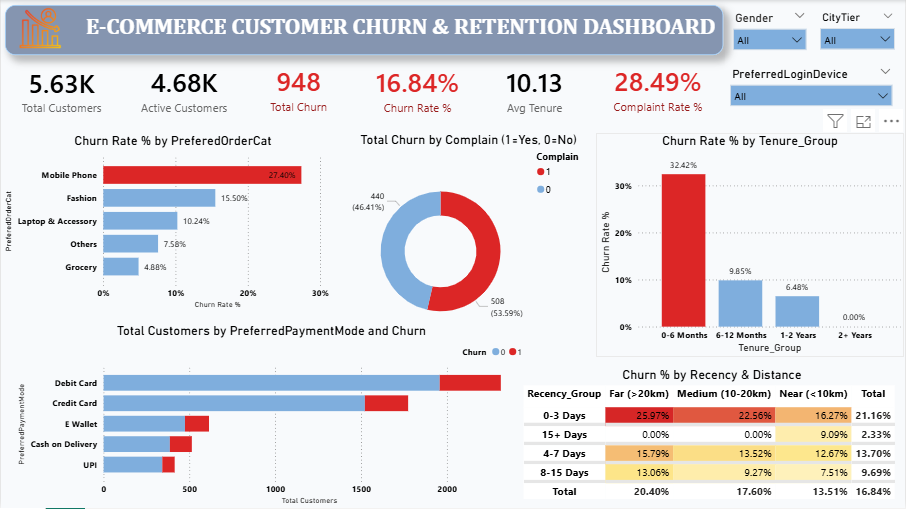

This screenshot's page, from the dashboard's own definition file:
{"tool":"powerbi","page":{"name":"Page 1","canvas":[1280,720],"ordinal":0},"visuals":[{"type":"textbox","box":[5,6.7,1018,70.6],"z":0},{"type":"cardVisual","fields":{"Data":["clean_ecommerce_churn.Avg Tenure"]},"box":[661.8,65.5,189.8,122.6],"z":1000},{"type":"cardVisual","fields":{"Data":["clean_ecommerce_churn.Churn Rate %"]},"box":[487.1,65.5,206.6,122.6],"z":2000},{"type":"cardVisual","fields":{"Data":["clean_ecommerce_churn.Active Customers"]},"box":[161.3,65.5,196.5,122.6],"z":3000},{"type":"cardVisual","fields":{"Data":["clean_ecommerce_churn.Total Churn"]},"box":[327.6,65.5,189.8,120.9],"z":4000},{"type":"cardVisual","fields":{"Data":["clean_ecommerce_churn.Total Customers"]},"box":[0,65.2,172.9,123.3],"z":5000},{"type":"barChart","fields":{"Y":["clean_ecommerce_churn.Churn Rate %"],"Category":["clean_ecommerce_churn.PreferedOrderCat"]},"box":[0,188.5,487.6,253.7],"z":6000},{"type":"clusteredColumnChart","fields":{"Category":["clean_ecommerce_churn.Tenure_Group"],"Y":["clean_ecommerce_churn.Churn Rate %"]},"box":[843.3,188.1,436.7,317.5],"z":7000},{"type":"donutChart","title":"Total Churn by Complain (1=Yes, 0=No)","fields":{"Category":["clean_ecommerce_churn.Complain"],"Y":["clean_ecommerce_churn.Total Churn"]},"box":[482.1,186.5,361.2,317.5],"z":8000},{"type":"barChart","fields":{"Category":["clean_ecommerce_churn.PreferredPaymentMode"],"Y":["clean_ecommerce_churn.Total Customers"],"Series":["clean_ecommerce_churn.Churn"]},"box":[18.4,457.8,729.9,262.2],"z":9000},{"type":"pivotTable","title":"Churn % by Recency & Distance","fields":{"Rows":["clean_ecommerce_churn.Recency_Group"],"Columns":["clean_ecommerce_churn.Distance_Group"],"Values":["clean_ecommerce_churn.Churn Rate %"]},"box":[735.7,520.7,544.3,194.9],"z":10000},{"type":"slicer","fields":{"Values":["clean_ecommerce_churn.Gender"]},"box":[1028,10.1,124.3,75.6],"z":11000},{"type":"slicer","fields":{"Values":["clean_ecommerce_churn.CityTier"]},"box":[1150.7,10.1,126,75.6],"z":12000},{"type":"slicer","fields":{"Values":["clean_ecommerce_churn.PreferredLoginDevice"]},"box":[1023,89,250.3,84],"z":13000},{"type":"image","box":[8.4,10.1,94.1,60.5],"z":14000},{"type":"cardVisual","fields":{"Data":["clean_ecommerce_churn.Complaint Rate %"]},"box":[829.8,65.5,204.9,120.9],"z":15000}]}

Visuals, with their boxes in screenshot pixels (x1, y1, x2, y2), scaled from the page's 1280x720 canvas onto the 906x509 screenshot:
textbox: bbox(4, 5, 724, 55)
cardVisual - clean_ecommerce_churn.Avg Tenure: bbox(468, 46, 603, 133)
cardVisual - clean_ecommerce_churn.Churn Rate %: bbox(345, 46, 491, 133)
cardVisual - clean_ecommerce_churn.Active Customers: bbox(114, 46, 253, 133)
cardVisual - clean_ecommerce_churn.Total Churn: bbox(232, 46, 366, 132)
cardVisual - clean_ecommerce_churn.Total Customers: bbox(0, 46, 122, 133)
barChart - clean_ecommerce_churn.Churn Rate % x clean_ecommerce_churn.PreferedOrderCat: bbox(0, 133, 345, 313)
clusteredColumnChart - clean_ecommerce_churn.Tenure_Group x clean_ecommerce_churn.Churn Rate %: bbox(597, 133, 905, 357)
"Total Churn by Complain (1=Yes, 0=No)" donutChart: bbox(341, 132, 597, 356)
barChart - clean_ecommerce_churn.PreferredPaymentMode x clean_ecommerce_churn.Total Customers: bbox(13, 324, 530, 508)
"Churn % by Recency & Distance" pivotTable: bbox(521, 368, 905, 506)
slicer - clean_ecommerce_churn.Gender: bbox(728, 7, 816, 61)
slicer - clean_ecommerce_churn.CityTier: bbox(814, 7, 904, 61)
slicer - clean_ecommerce_churn.PreferredLoginDevice: bbox(724, 63, 901, 122)
image: bbox(6, 7, 73, 50)
cardVisual - clean_ecommerce_churn.Complaint Rate %: bbox(587, 46, 732, 132)
